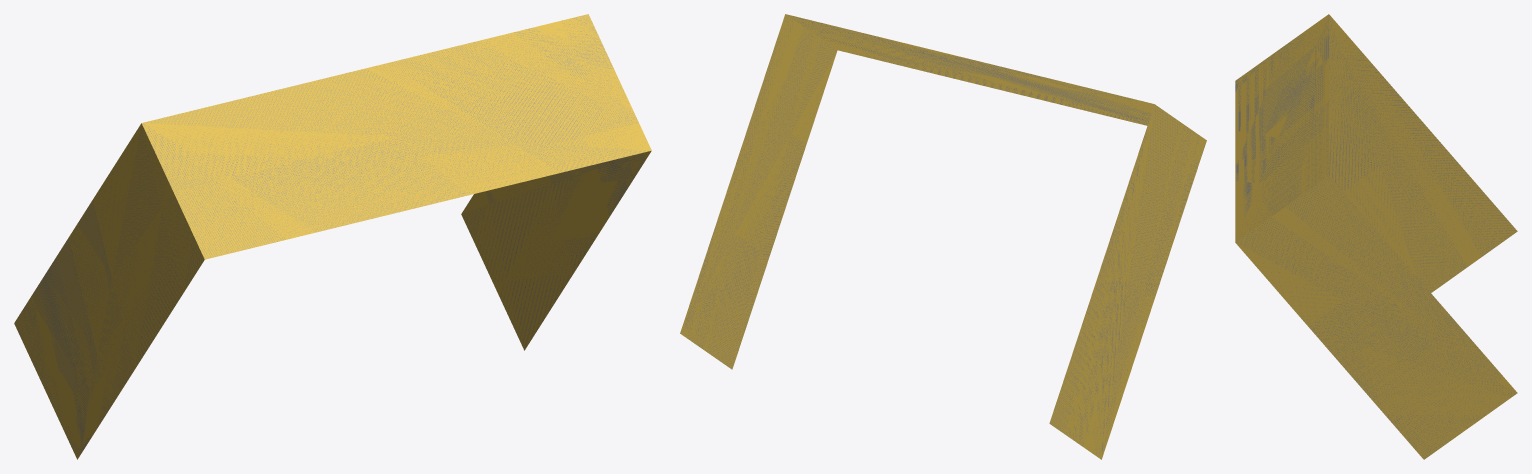
File: original-107.obj
3 views of the same model, side by side, from view 1: azimuth 30°, elevation 25°; view 2: azimuth 150°, elevation 25°; view 3: azimuth 270°, elevation 25° (orthographic). The views are drawn at different scales.
Parts seen in each view (by area): view 1: Group14/mesh13/mesh13-geometry/material_2/component_0#mesh13-geo; view 2: Group14/mesh13/mesh13-geometry/material_2/component_0#mesh13-geo; view 3: Group14/mesh13/mesh13-geometry/material_2/component_0#mesh13-geo.
Part boxes in pixels (box(x1,y1,x2,y2)): Group14/mesh13/mesh13-geometry/material_2/component_0#mesh13-geo: box(14, 14, 651, 459); Group14/mesh13/mesh13-geometry/material_2/component_0#mesh13-geo: box(680, 14, 1206, 459); Group14/mesh13/mesh13-geometry/material_2/component_0#mesh13-geo: box(1235, 14, 1517, 459).
Bounding box in the file's own units: 0.0866 × 0.0711 × 0.064.
